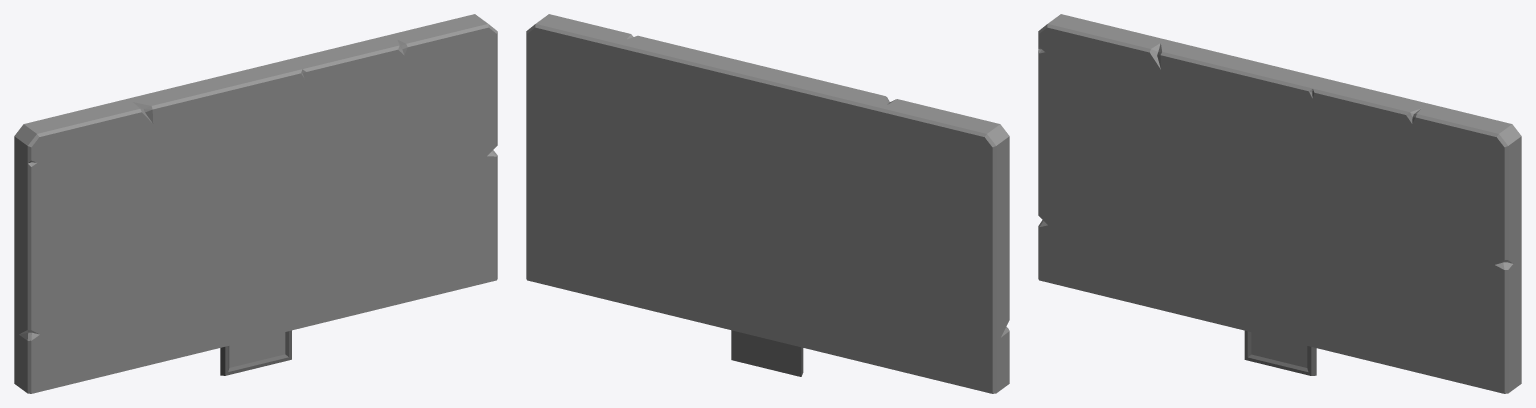
The model's file is prop_TatWall.fbx.
The picture shows the model from 3 angles, left to right: view 1: azimuth 30°, elevation 25°; view 2: azimuth 150°, elevation 25°; view 3: azimuth 330°, elevation 25°; orthographic projection.
Visible parts, largest first — view 1: Box001, frame01; view 2: Box001, frame01; view 3: Box001, frame01.
Boxes of the visible parts, x1,y1,x2,y2 form: Box001: (14,14,497,393); frame01: (220,330,291,375); Box001: (526,14,1009,393); frame01: (731,330,803,376); Box001: (1038,14,1521,393); frame01: (1244,330,1316,375).
Bounding box in the file's own units: 840 × 502 × 50.
Materials: 3 (1 with a texture image).
